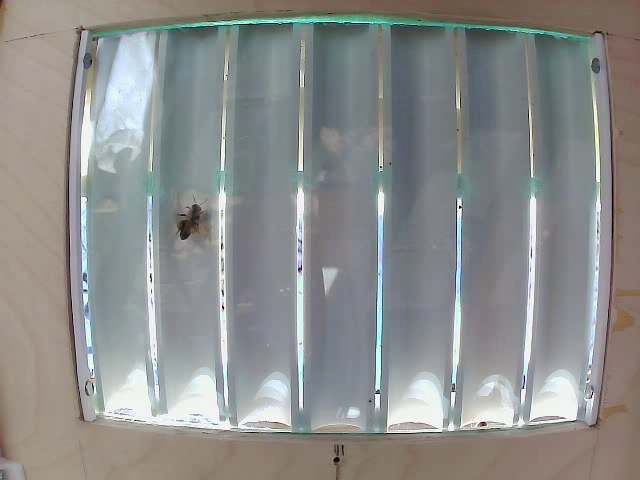bee: (175, 207, 218, 259)
